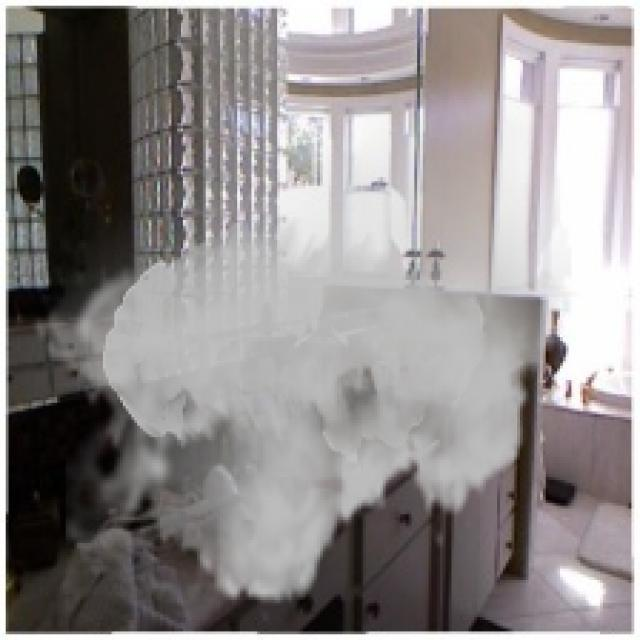Smoke: (31, 60, 572, 626)
